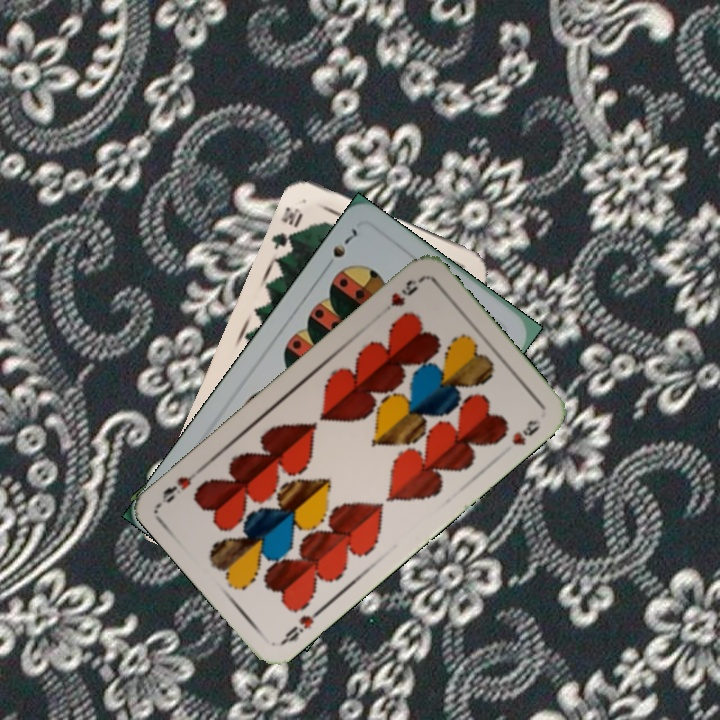G10: (267, 202, 306, 253)
H9: (277, 603, 326, 648), (376, 274, 426, 318)
S7: (320, 224, 360, 273)
